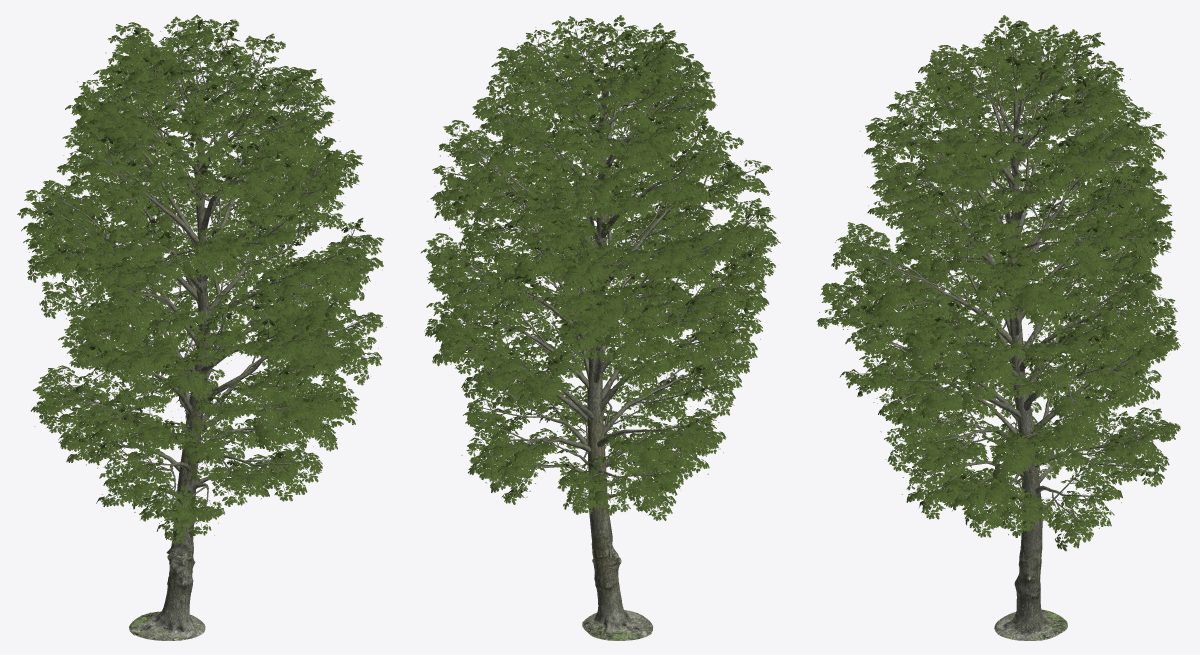
The model's file is Quercus Robur Cmps.glb.
3 renders of one model, left to right at view 1: azimuth 30°, elevation 25°; view 2: azimuth 150°, elevation 25°; view 3: azimuth 270°, elevation 25°, orthographic.
Visible parts, largest first — view 1: AM171_054_Mesh; view 2: AM171_054_Mesh; view 3: AM171_054_Mesh.
Part boxes in pixels (x1,y1,x2,y2): AM171_054_Mesh: (17,14,386,640); AM171_054_Mesh: (421,15,780,640); AM171_054_Mesh: (816,15,1183,640).
Size of the model in its own units: 5.66 by 10.11 by 5.69.
2 materials, 2 textured.
